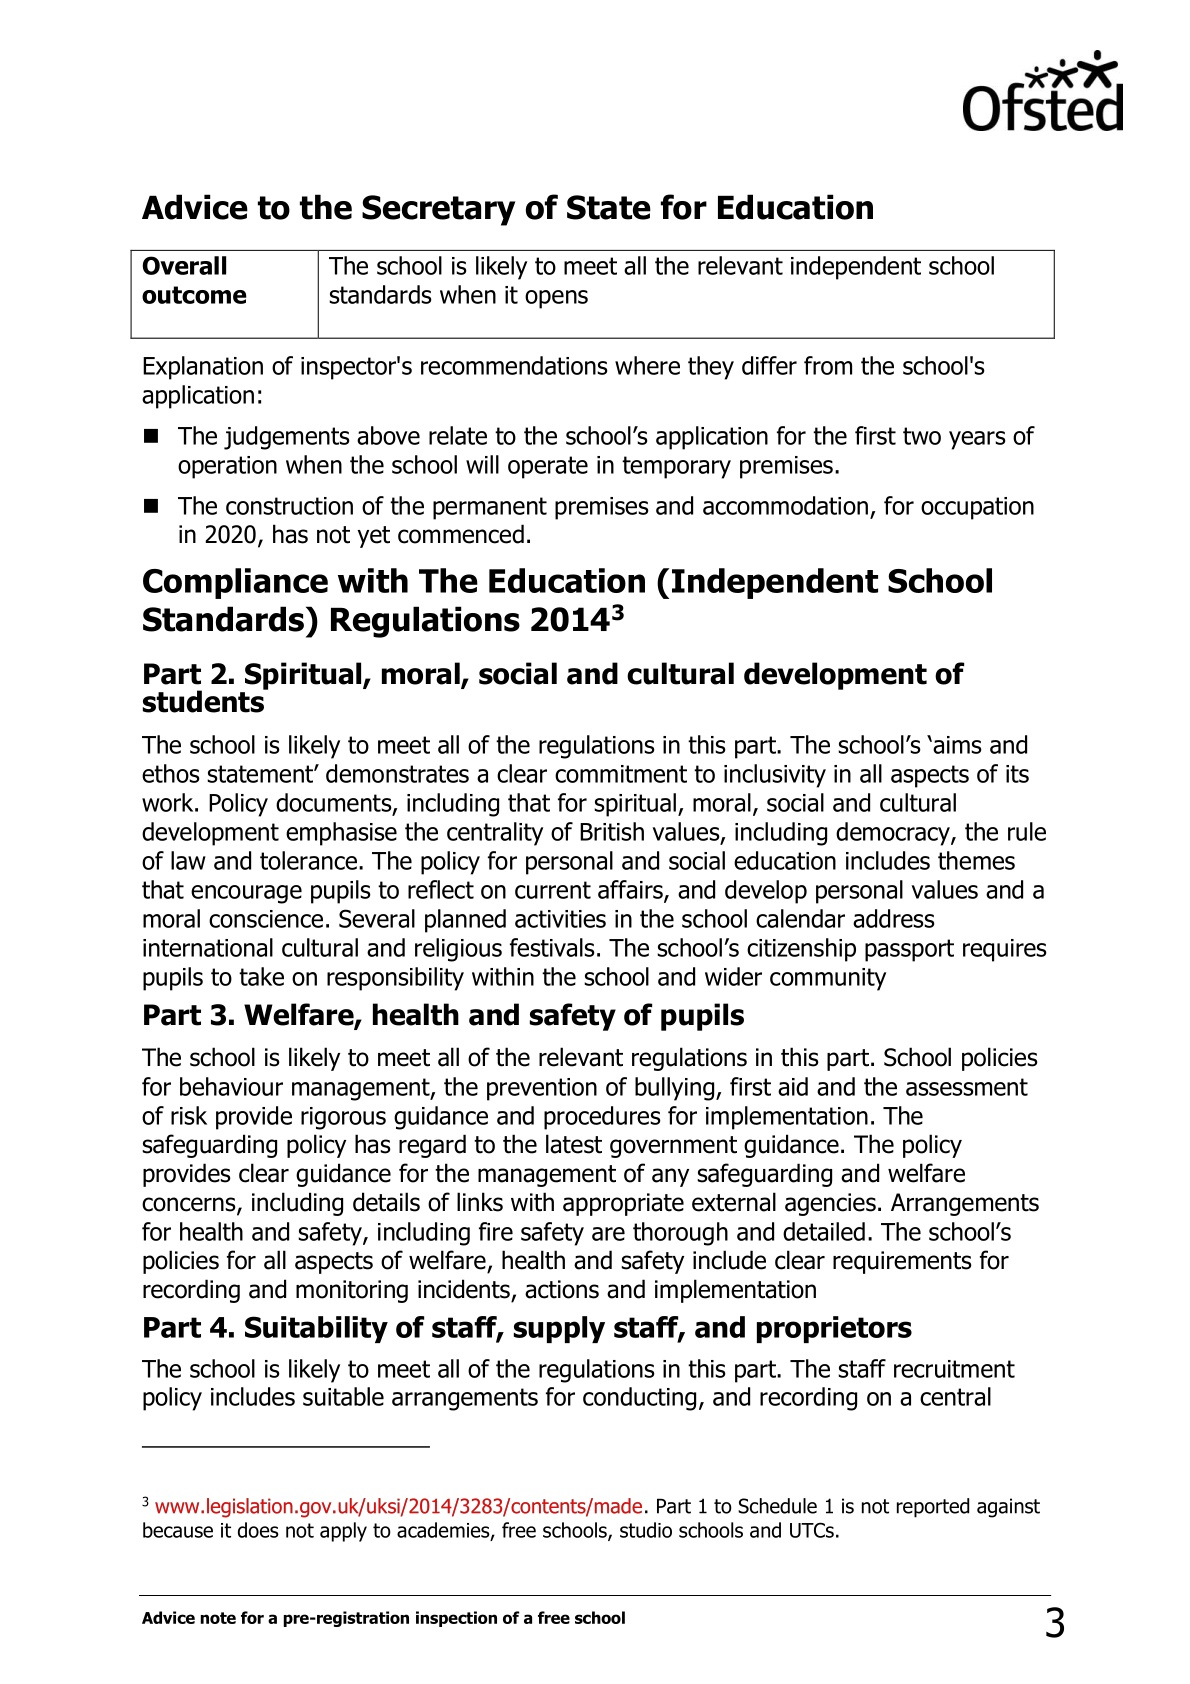full_lined: (130, 248, 1055, 339)
